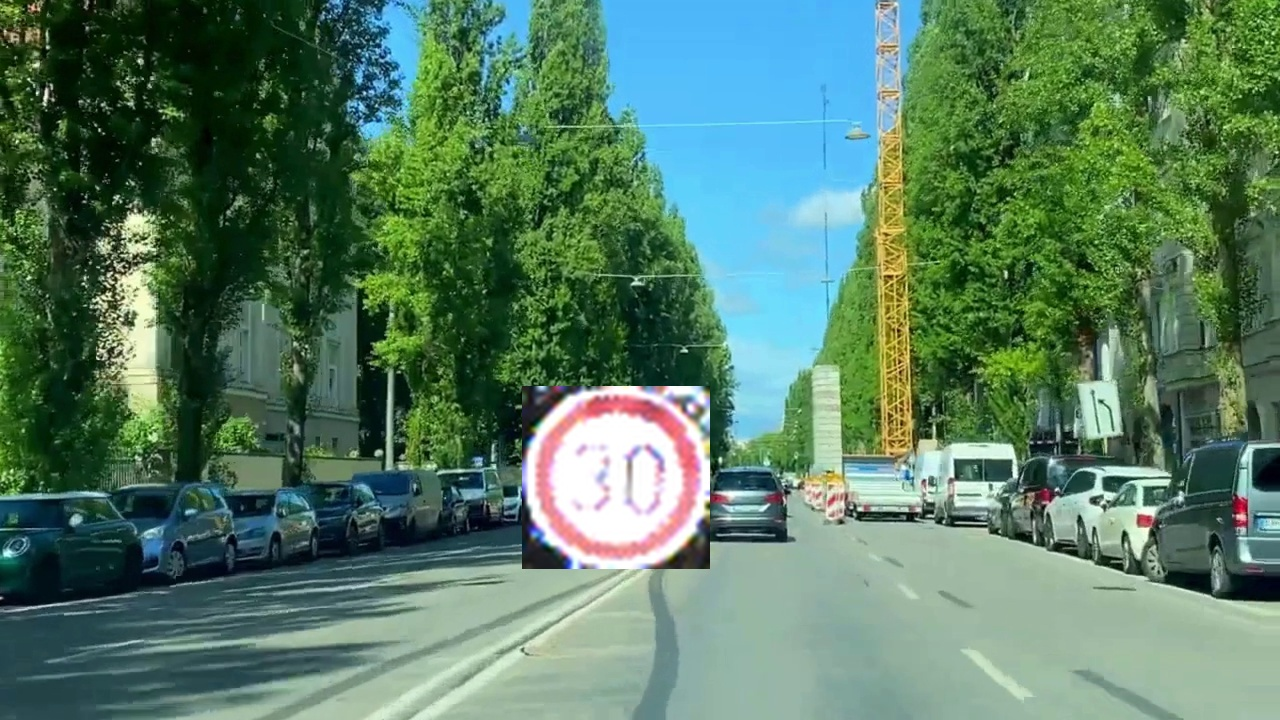Speed 30: (522, 386, 710, 569)
